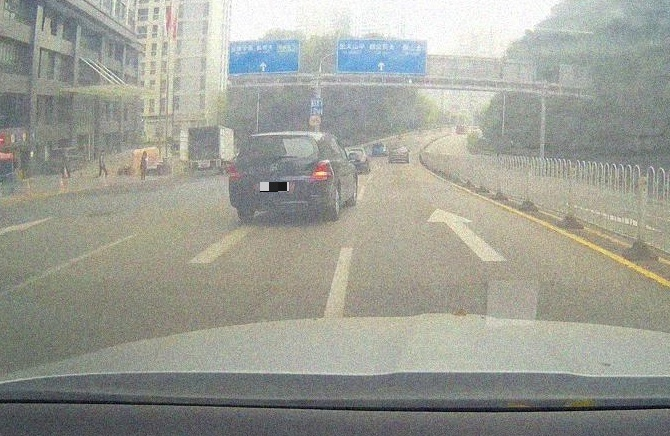L_light: (228, 163, 241, 185)
R_light: (310, 160, 333, 185)
T_light: (268, 133, 292, 138)
day-right: (227, 132, 335, 222)
plate_1: (260, 182, 289, 192)
